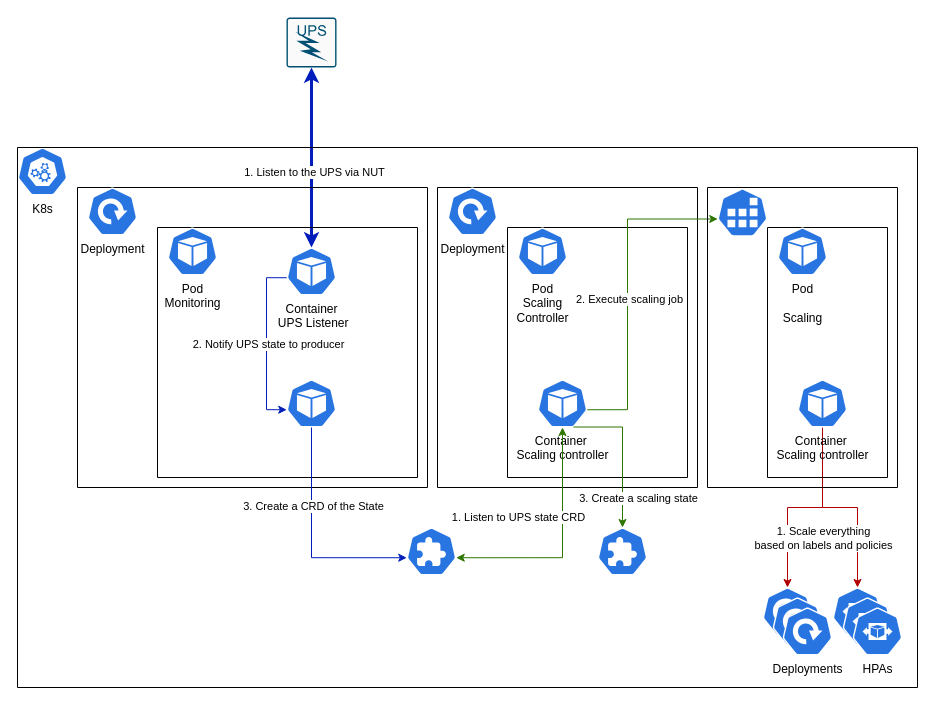
Image size: 935x705. Some labels were removed from this diagram. Each missing label, with the centre of its shape:
"Container UPS Producer" belongs at (311,403).
"CRD Scaling status" belongs at (622,551).
"CRD UPS status" belongs at (431,551).
"Job" belongs at (742,212).
